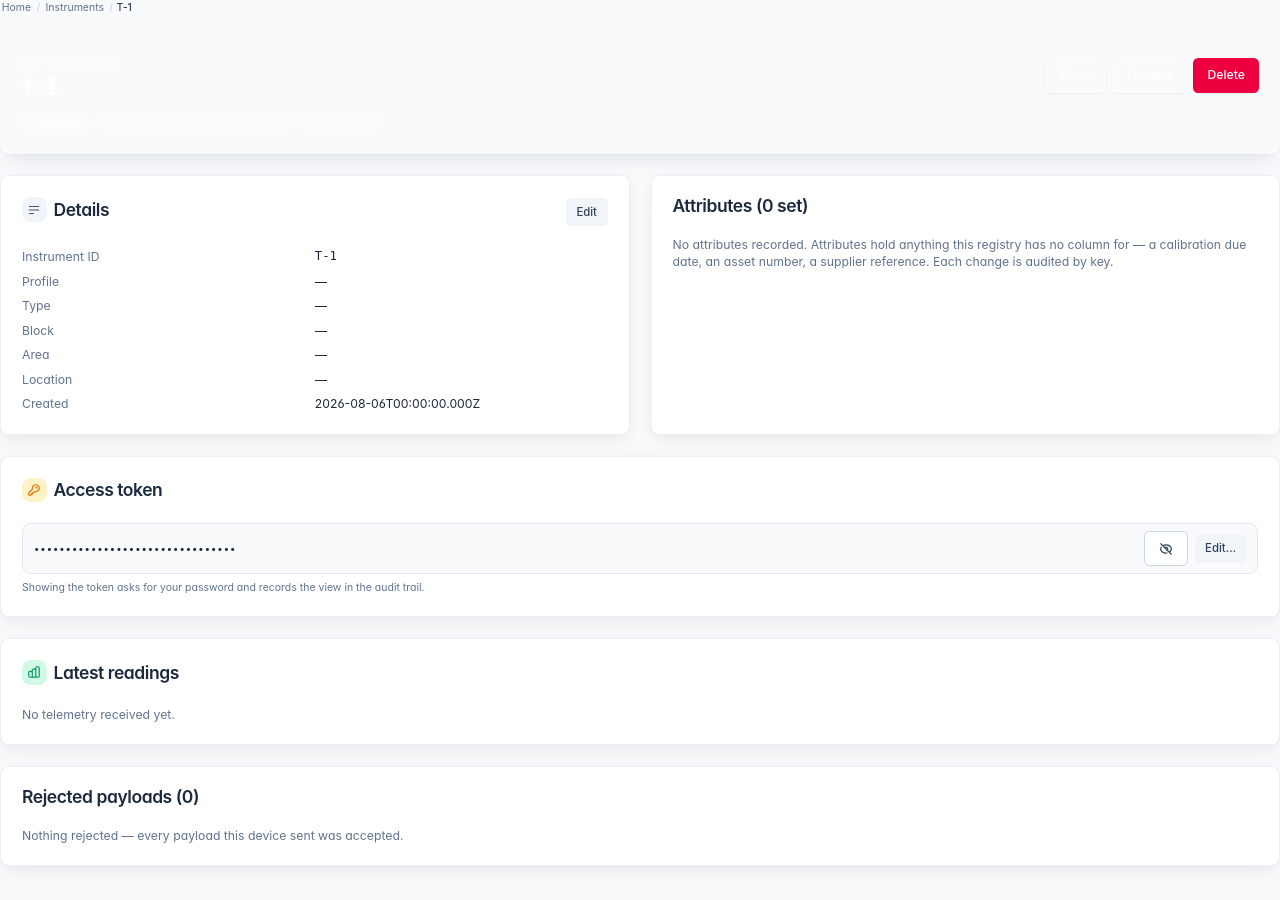
Scenario: instrument detail — delete confirmation › deletes nothing when cancelled
The image size is (1280, 900).
Click the button "Delete" at point(1226, 75), box [1193,58,1259,93]
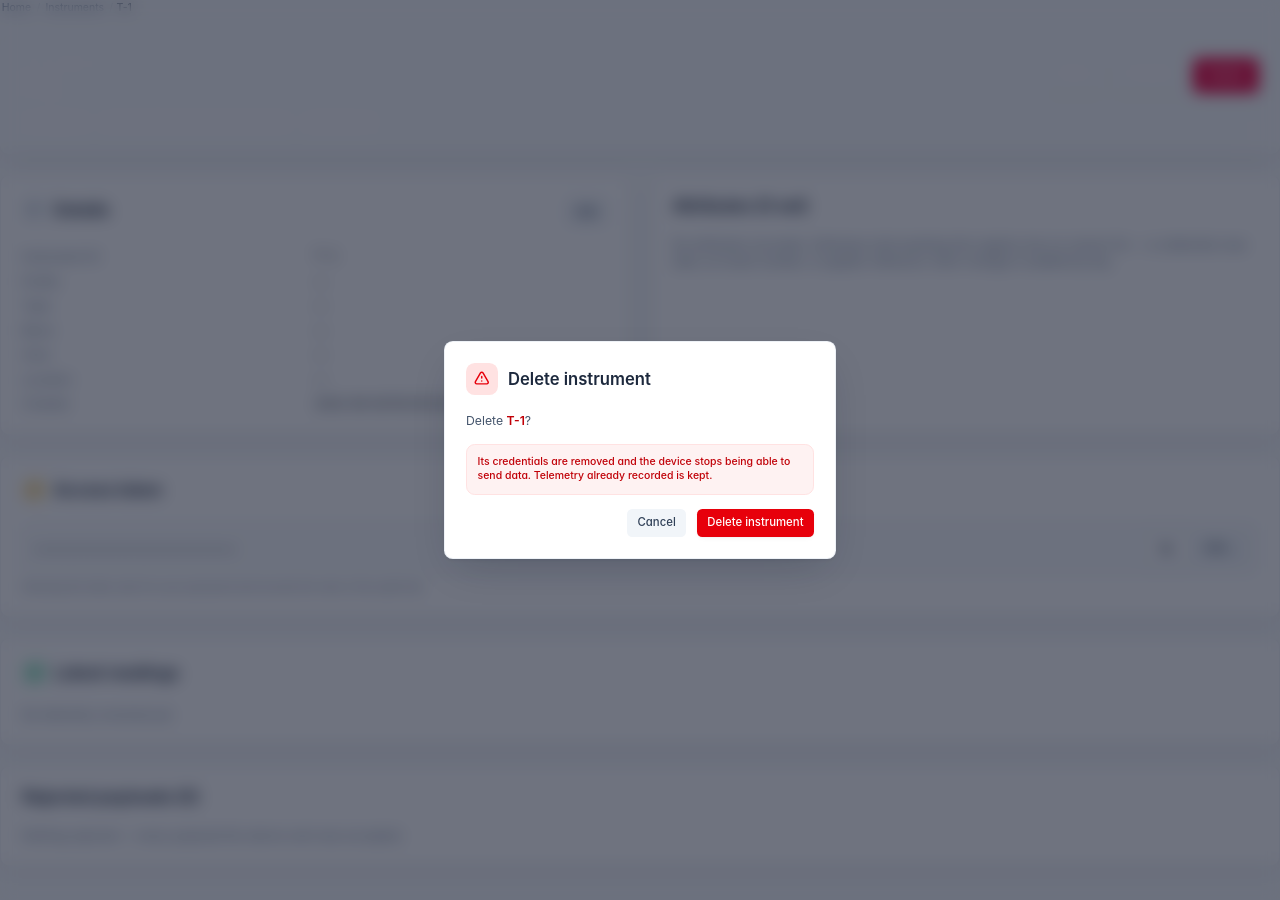
Click the button "Cancel" at point(657, 523), box [627,509,686,537]
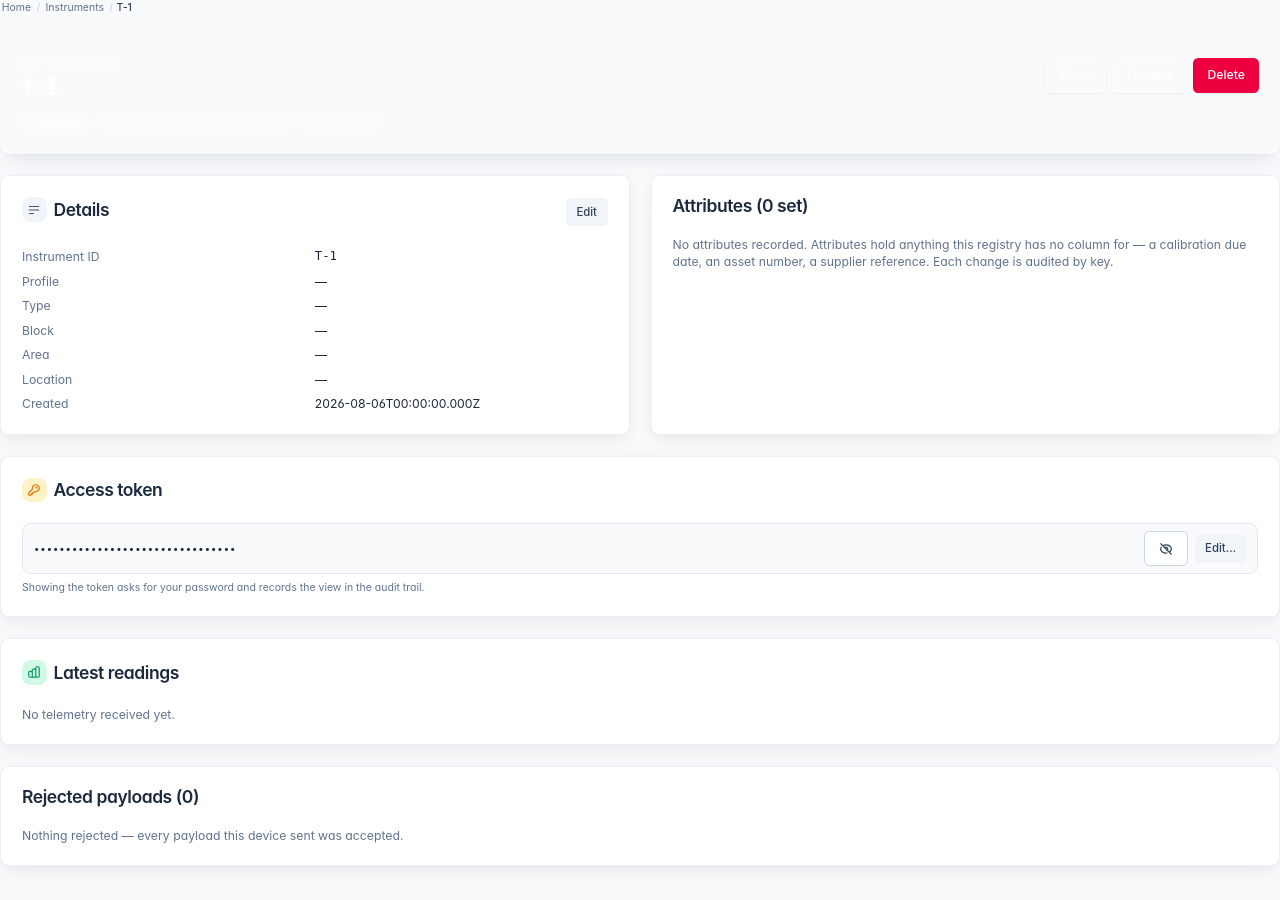
Expected: the text "stops being able to send data" is gone
